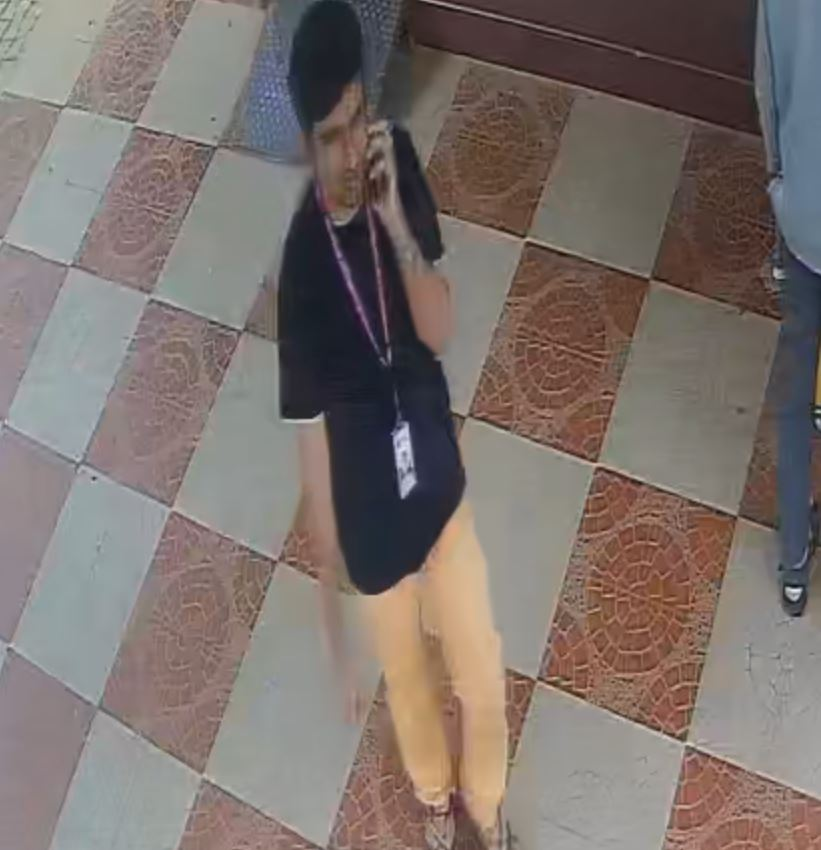intruder: (269, 3, 531, 841)
